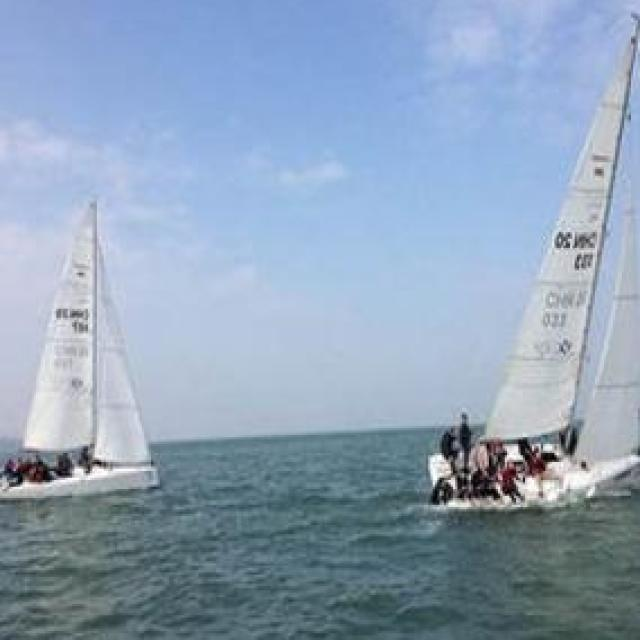sailboat: (421, 11, 640, 516), (0, 191, 163, 509)
